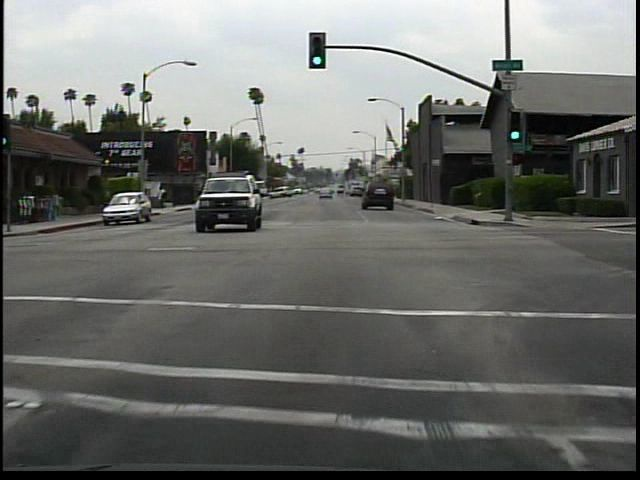person: (158, 183, 170, 211)
